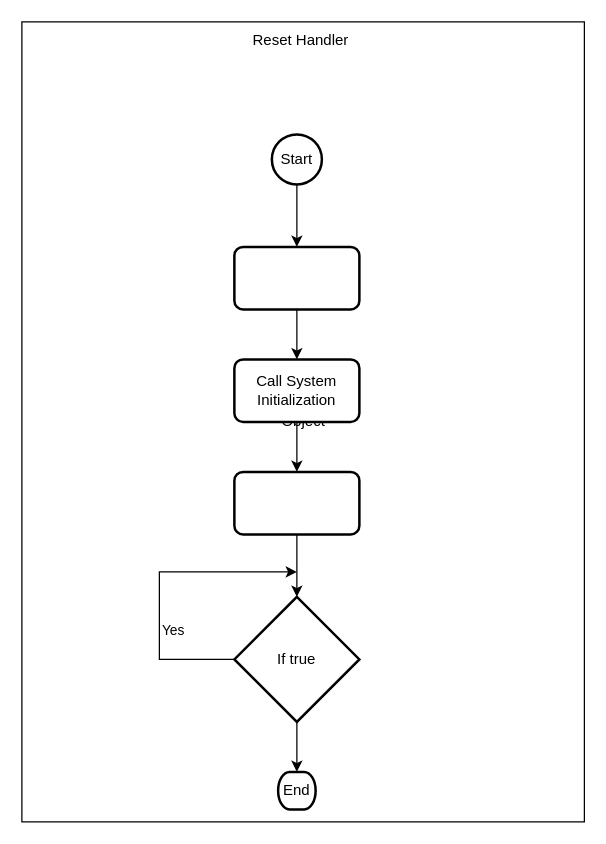
Image size: 606x844. Some labels were removed from this diagram. The shapes that lost their labels are listed below. From the top down, each one's centre as x and y in pixels, then its label:
At (x=296, y=277): "Call RAM initialization".
At (x=296, y=502): "Call main function".
